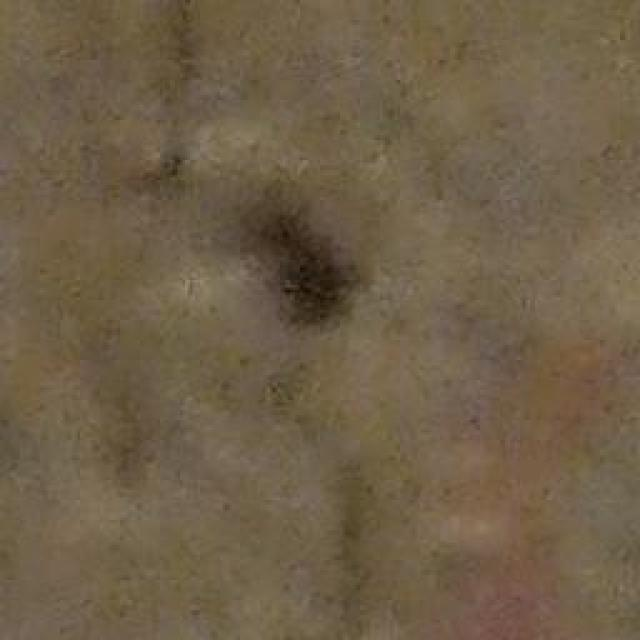Longitudinal: (141, 0, 394, 640)
